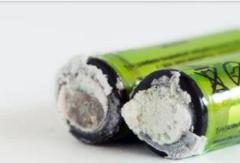electronic: (40, 26, 240, 163)
